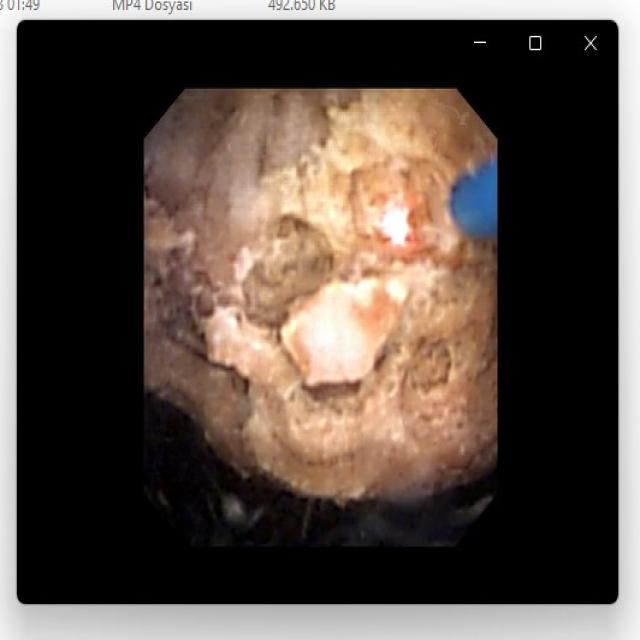fiber: (452, 165, 493, 234)
stone: (148, 91, 489, 499)
